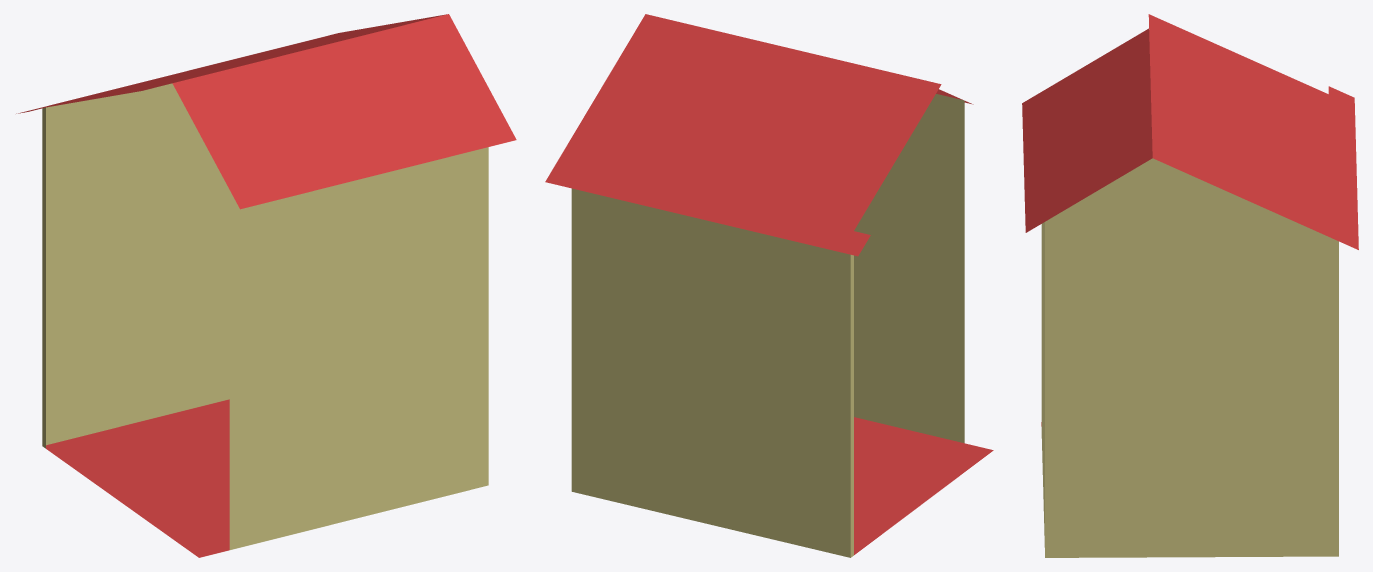
3 views of the same model, side by side, from view 1: azimuth 30°, elevation 25°; view 2: azimuth 150°, elevation 25°; view 3: azimuth 270°, elevation 25° (orthographic). The views are drawn at different scales.
Size of the model in its own units: 13.93 by 12.86 by 17.16.
